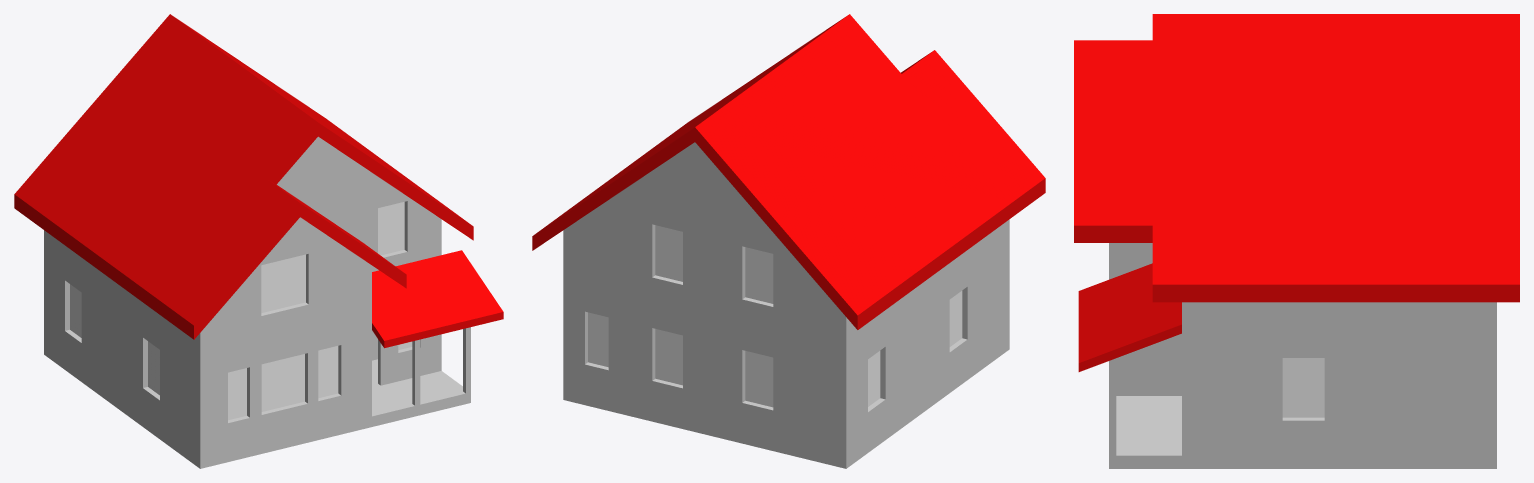
Rendered from enum1.gltf.
3 views of the same model, side by side, from view 1: azimuth 30°, elevation 25°; view 2: azimuth 150°, elevation 25°; view 3: azimuth 270°, elevation 25° (orthographic). The views are drawn at different scales.
Parts seen in each view (by area): view 1: Box019.002, etag1.002, Plane.011; view 2: etag1.002, Box019.002, Plane.011; view 3: Box019.002, etag1.002, Plane.011.
Boxes of the visible parts, x1,y1,x2,y2 form: Box019.002: (14,14,503,348); etag1.002: (44,136,470,468); Plane.011: (70,202,412,420); etag1.002: (563,142,1009,468); Box019.002: (532,14,1045,329); Plane.011: (588,225,962,407); Box019.002: (1074,14,1519,371); etag1.002: (1109,243,1496,468); Plane.011: (1282,358,1324,417).
Bounding box in the file's own units: 0.9505 × 0.8775 × 0.9505.
